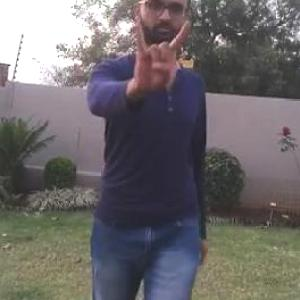takeoff-hand: (119, 12, 189, 96)
